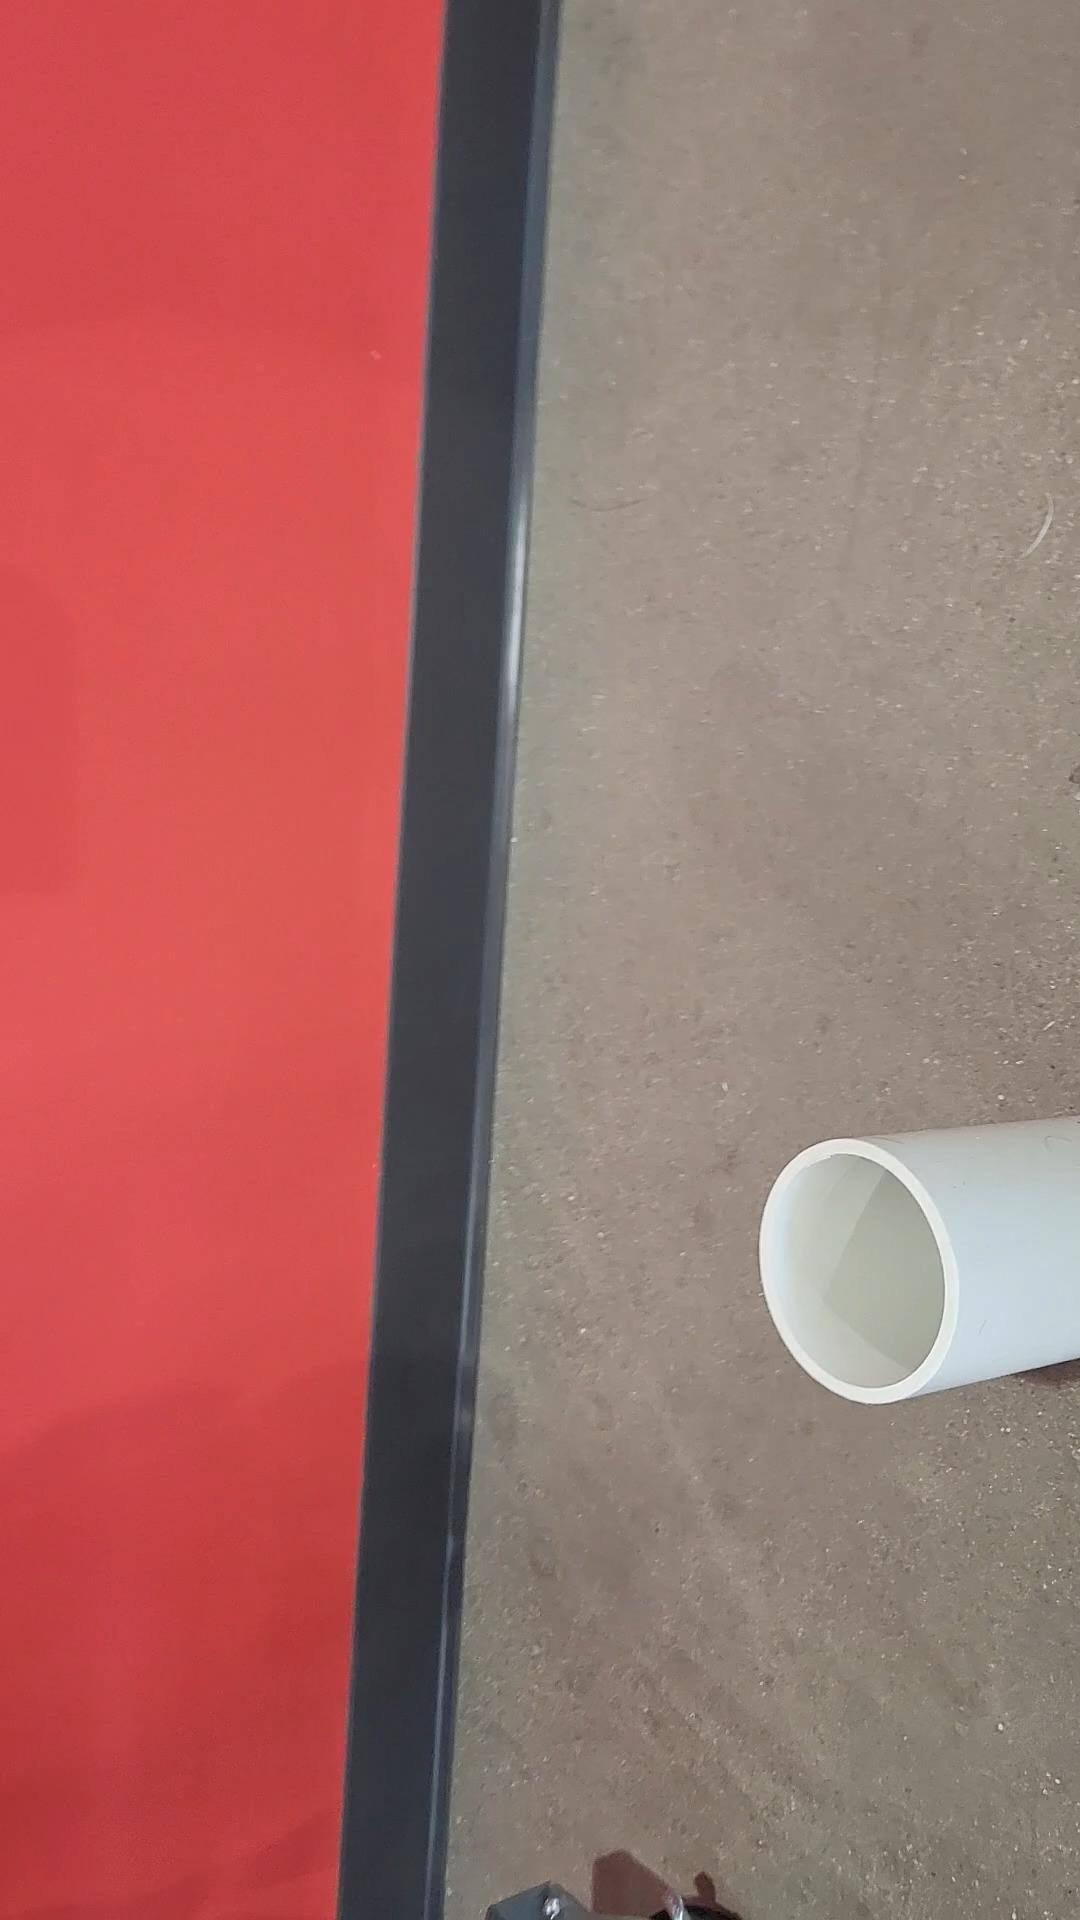coral: (760, 1097, 1080, 1403)
